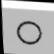no answer: (13, 18, 44, 49)
